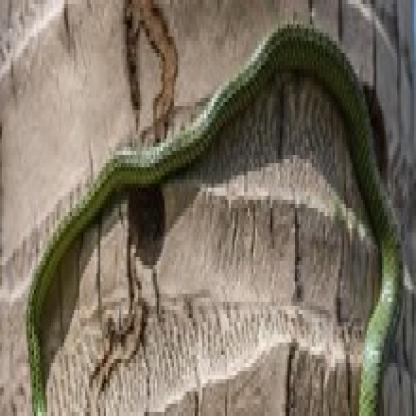snakes: (25, 16, 402, 416)
